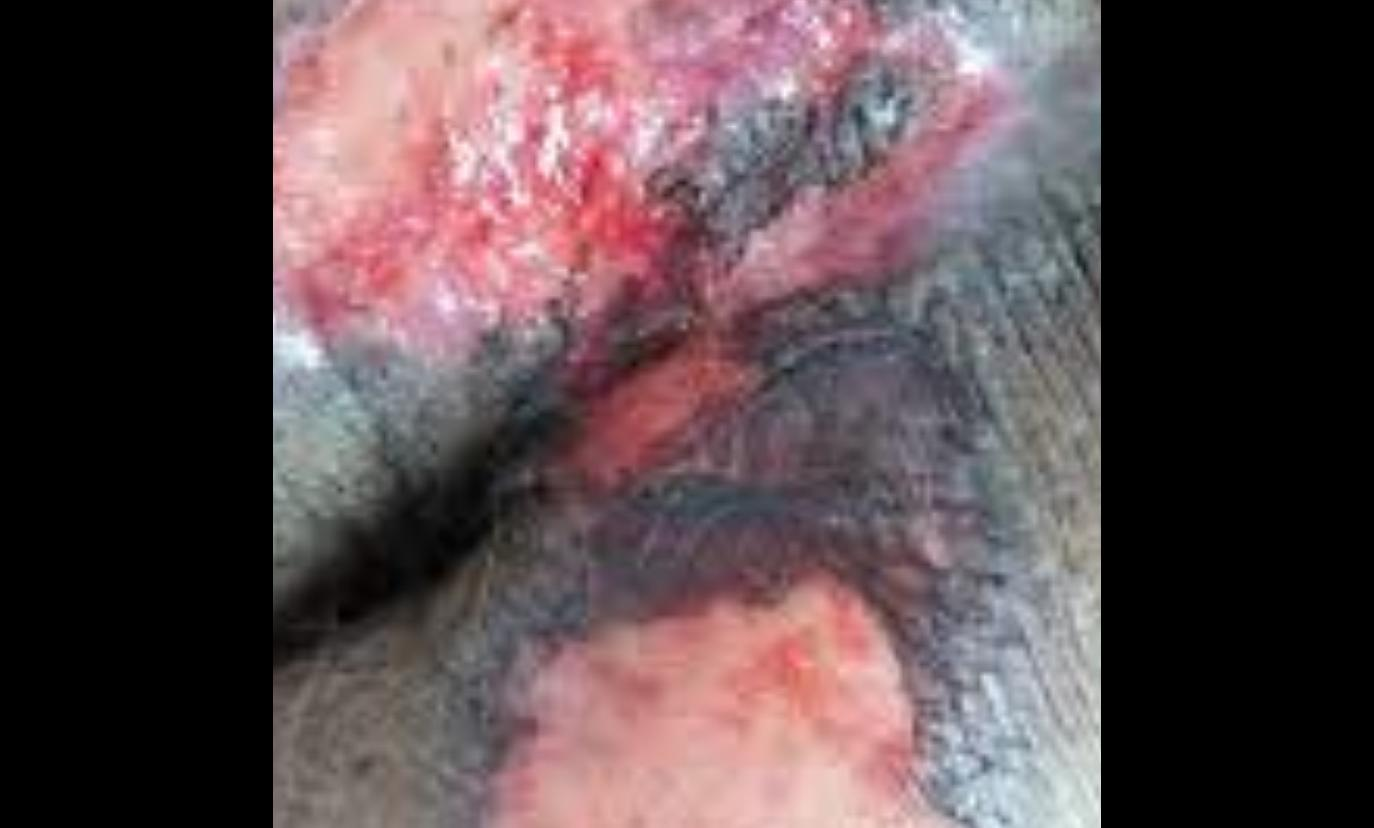Stage2: (275, 0, 994, 828)
